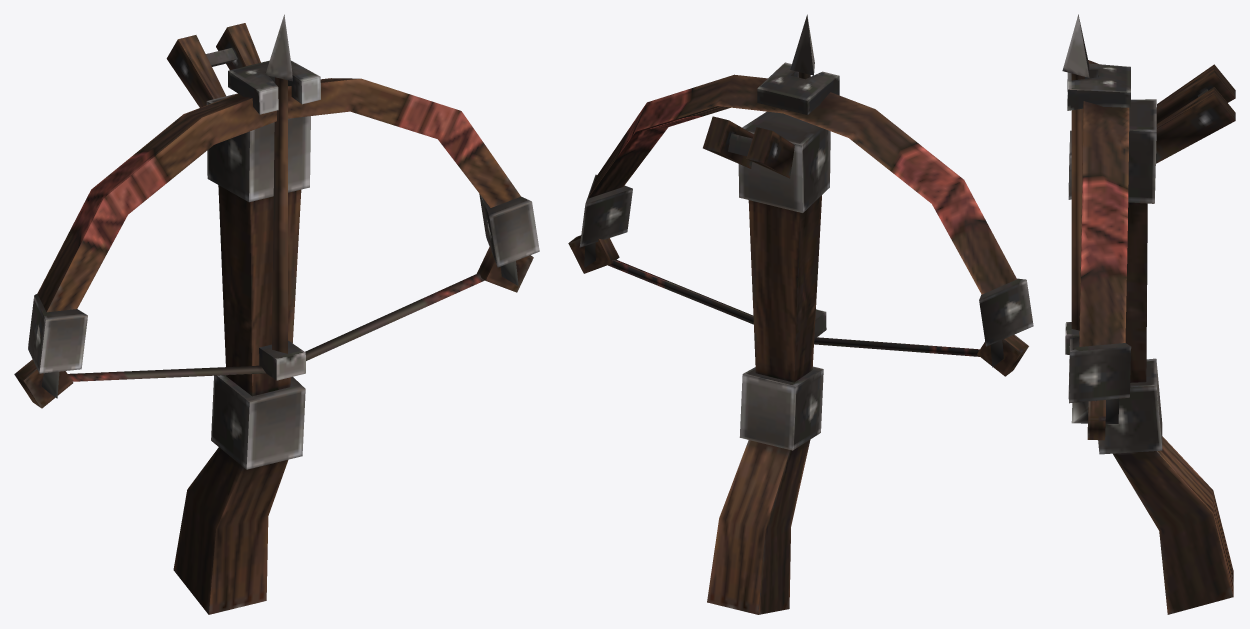
Rendered from crossbow01_ebe0159f.glb.
The picture shows the model from 3 angles, left to right: view 1: azimuth 30°, elevation 25°; view 2: azimuth 150°, elevation 25°; view 3: azimuth 270°, elevation 25°; orthographic projection. The views are drawn at different scales.
Bounding box in the file's own units: 1.09 × 1.28 × 0.3432.
1 material, 1 textured.
